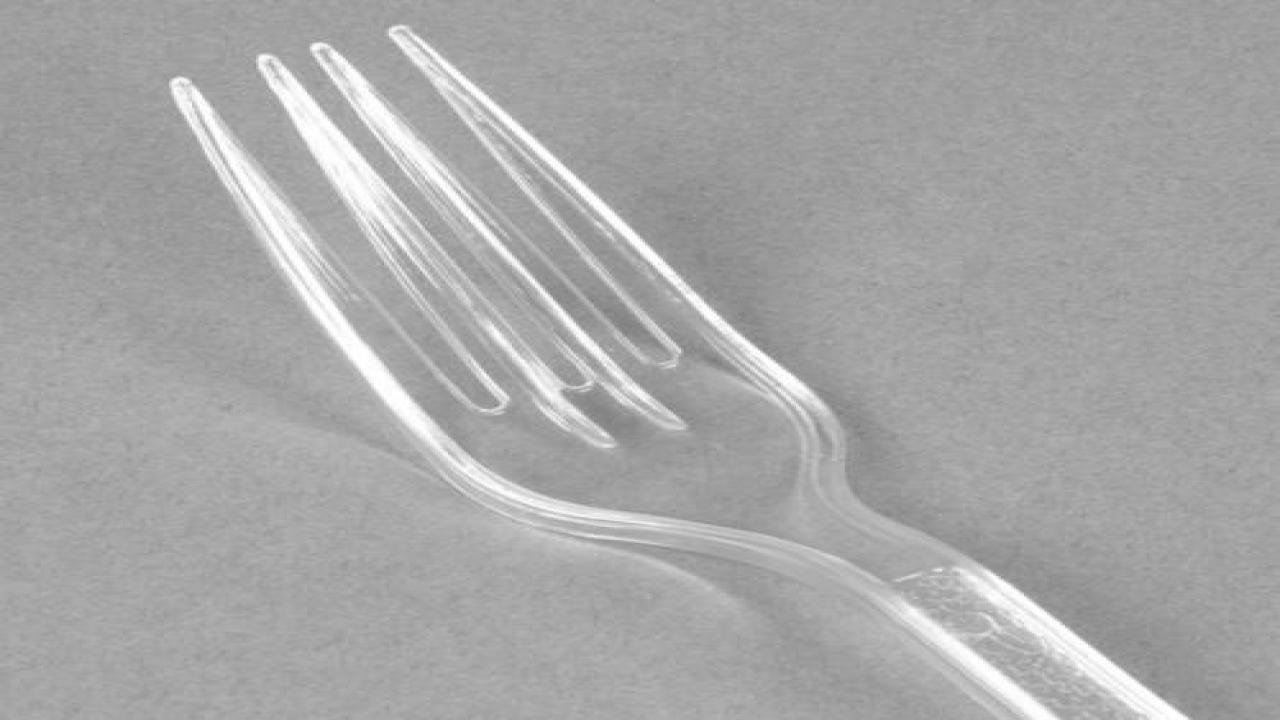fork: (164, 23, 1257, 719)
